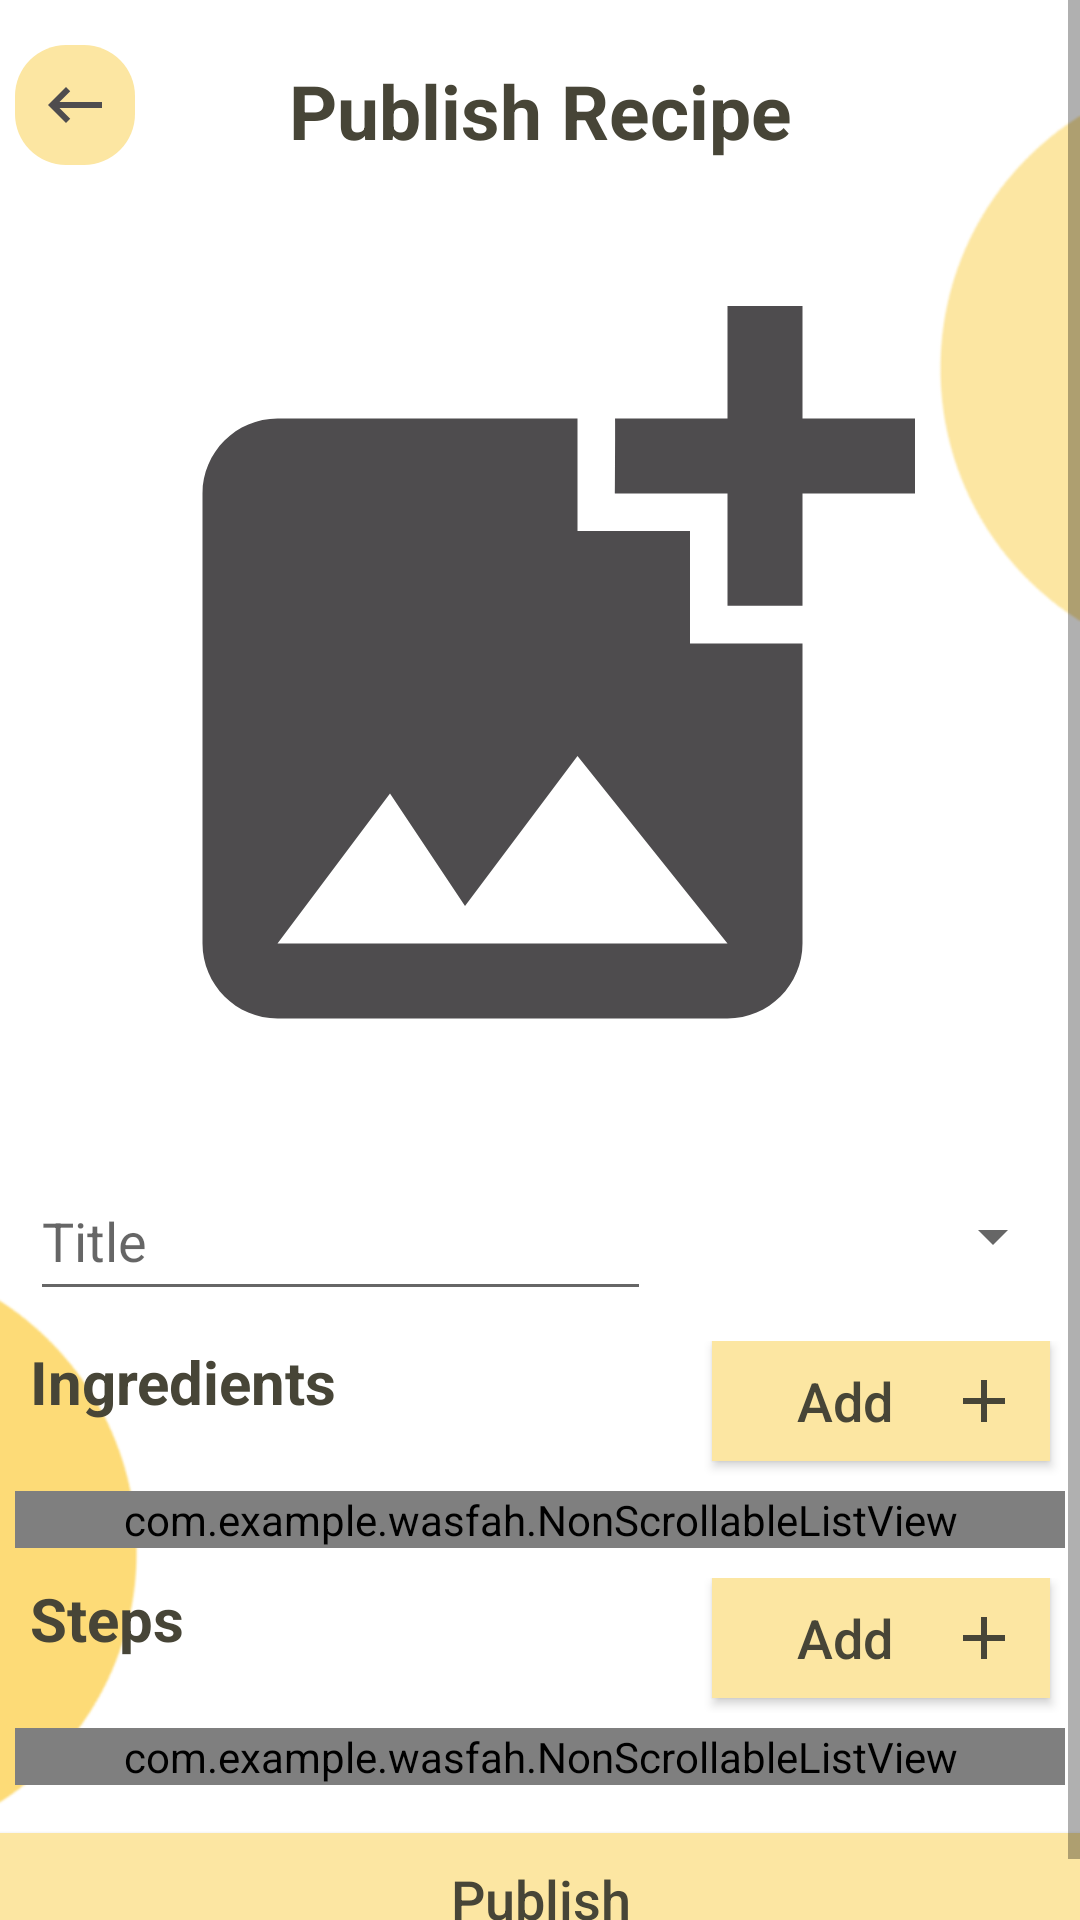

Point at icon controls on the screen. Image size 1080*1920, points as (x=x, y=y).
keyboard backspace: (x=75, y=105)
